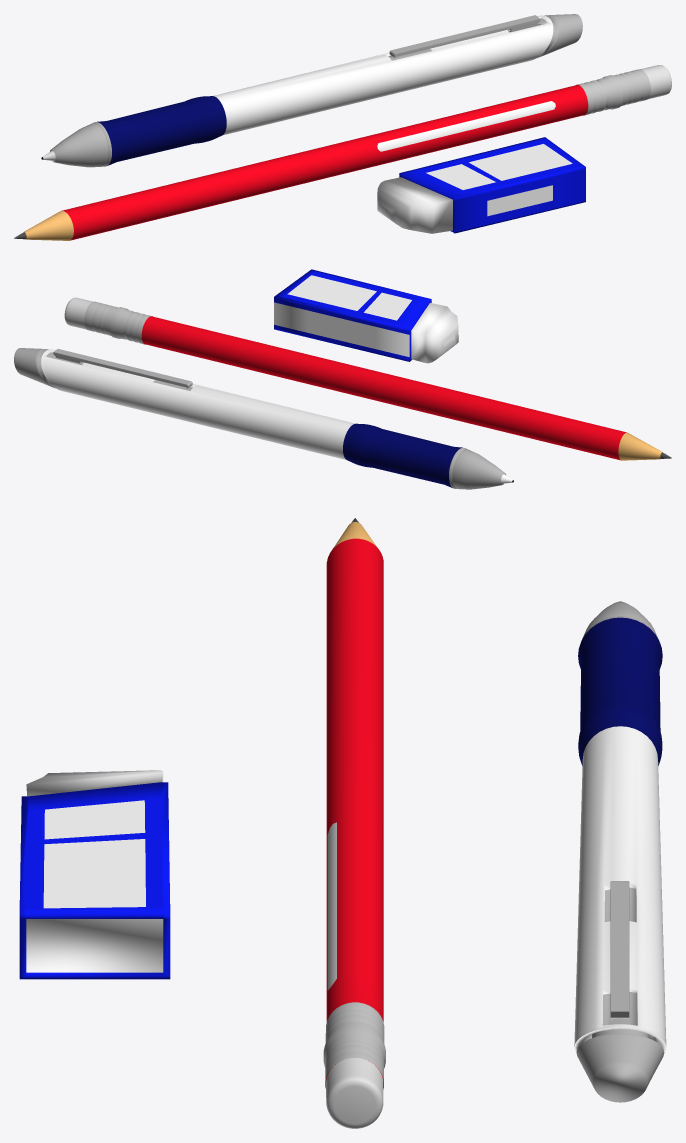
The model's file is stationary.gltf.
3 views of the same model, one above another, from view 1: azimuth 30°, elevation 25°; view 2: azimuth 150°, elevation 25°; view 3: azimuth 270°, elevation 25° (orthographic). The views are drawn at different scales.
Parts seen in each view (by area): view 1: pen, pencil, rubber, penpart; view 2: pen, pencil, rubber, penpart; view 3: pen, pencil, rubber, penpart.
Part boxes in pixels (<box>): pen: <box>41,14,582,167</box>; pencil: <box>14,65,671,240</box>; rubber: <box>377,137,585,233</box>; penpart: <box>389,15,540,58</box>; pen: <box>14,348,513,489</box>; pencil: <box>64,297,671,460</box>; rubber: <box>274,269,458,363</box>; penpart: <box>53,349,192,388</box>; pen: <box>574,601,666,1102</box>; pencil: <box>323,518,385,1128</box>; rubber: <box>19,770,170,979</box>; penpart: <box>610,881,629,1021</box>.
Size of the model in its own units: 8.92 by 0.5452 by 4.15.
